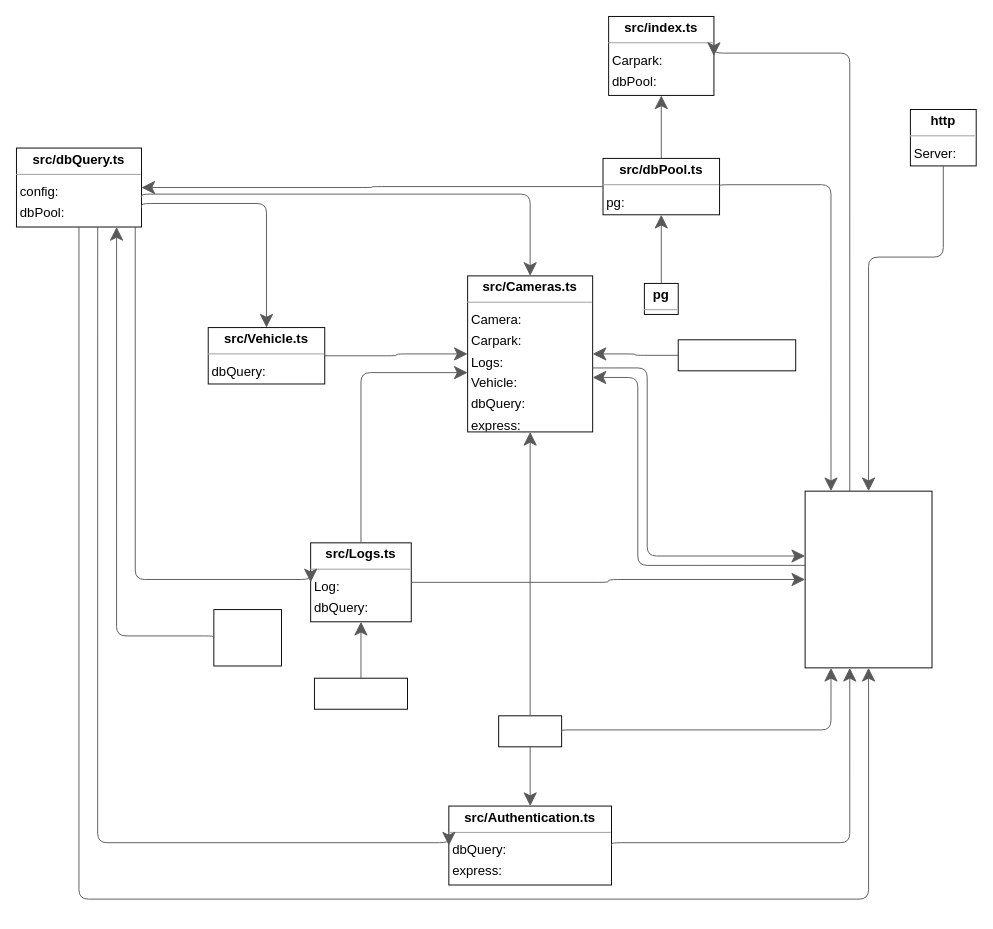
Image size: 993x929. Some labels were removed from this diagram. The shapes that lost their labels are listed below. From the top down, each one's centre as x and y in pixels, then its label:
the point at 736,355: src/Camera.ts
the point at 868,579: src/Carpark.ts Authentication: Cameras: Logs: Server: dbPool: dbQuery: express:
the point at 247,637: dotenv config:
the point at 360,693: src/Log.ts
the point at 530,731: express
